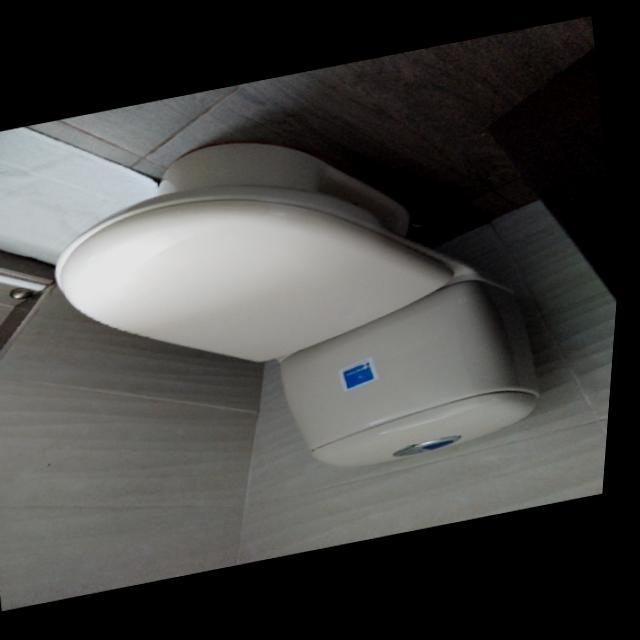toilet: (24, 88, 571, 526)
